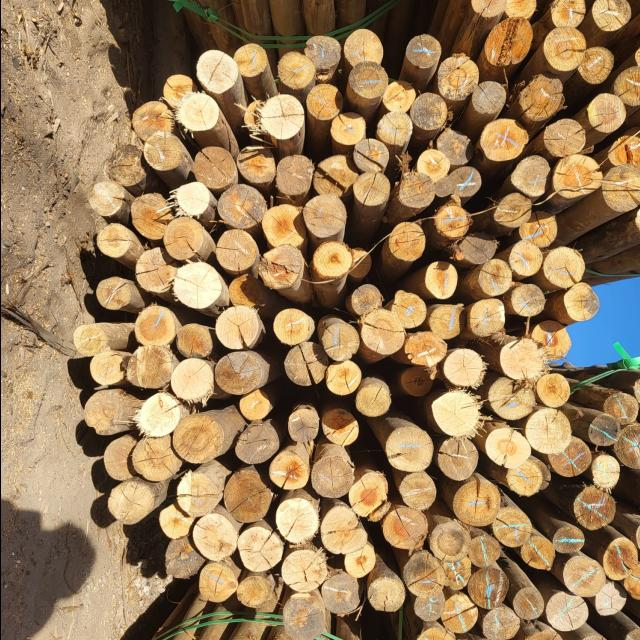package: (73, 29, 595, 636), (404, 370, 636, 640), (457, 3, 639, 234)
